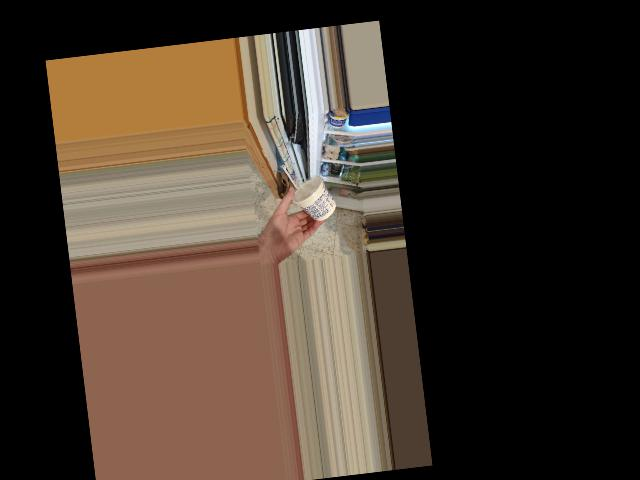cotage: (291, 173, 334, 224)
